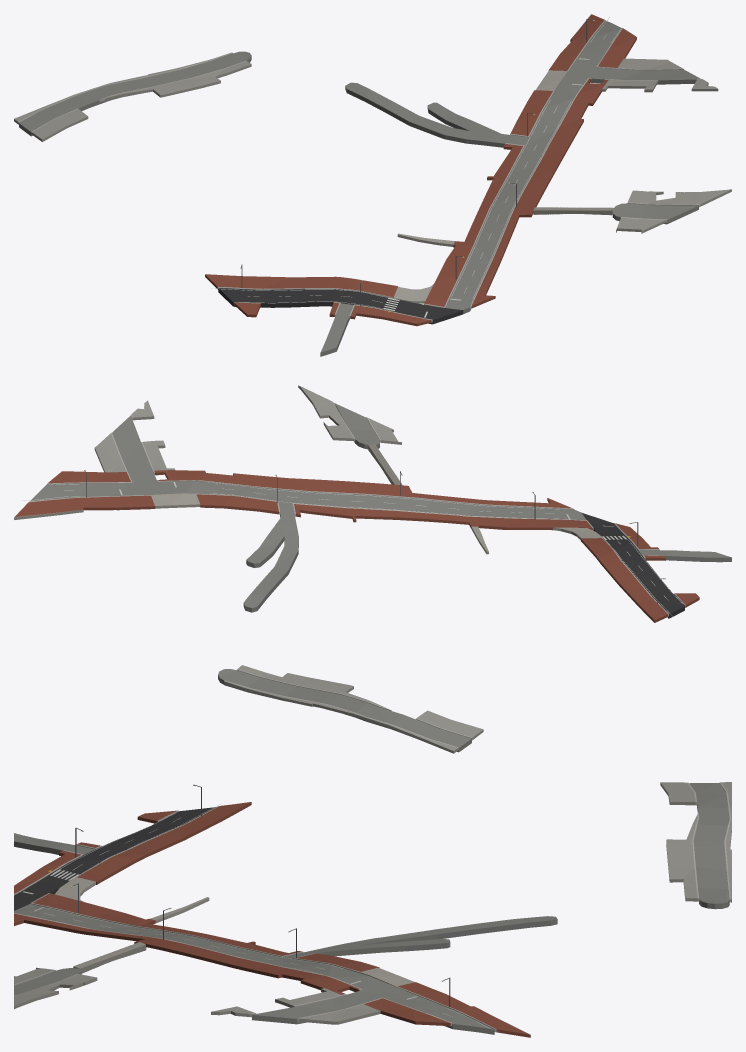
3 views of the same model, one above another, from view 1: azimuth 30°, elevation 25°; view 2: azimuth 150°, elevation 25°; view 3: azimuth 270°, elevation 25° (orthographic). The views are drawn at different scales.
Size of the model in its own units: 150 by 29.22 by 146.
